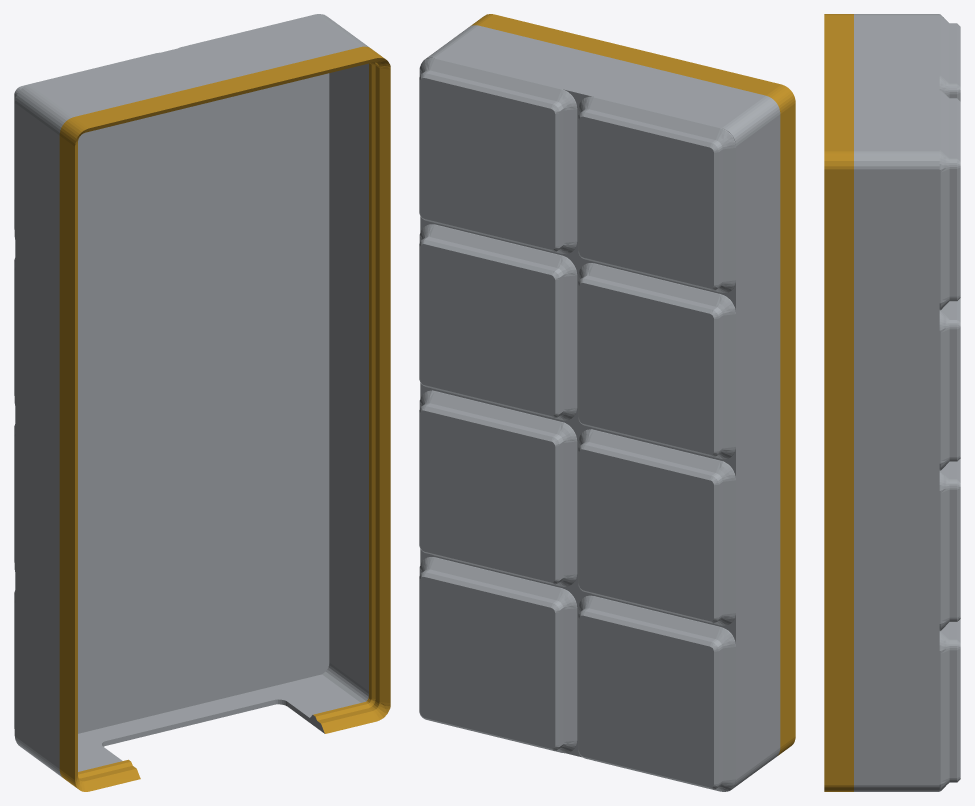
The model's file is wall-cutout-2x4-cable.glb.
3 renders of one model, left to right at view 1: azimuth 30°, elevation 25°; view 2: azimuth 150°, elevation 25°; view 3: azimuth 270°, elevation 25°, orthographic. The views are drawn at different scales.
Size of the model in its own units: 83.46 by 168 by 32.32.
